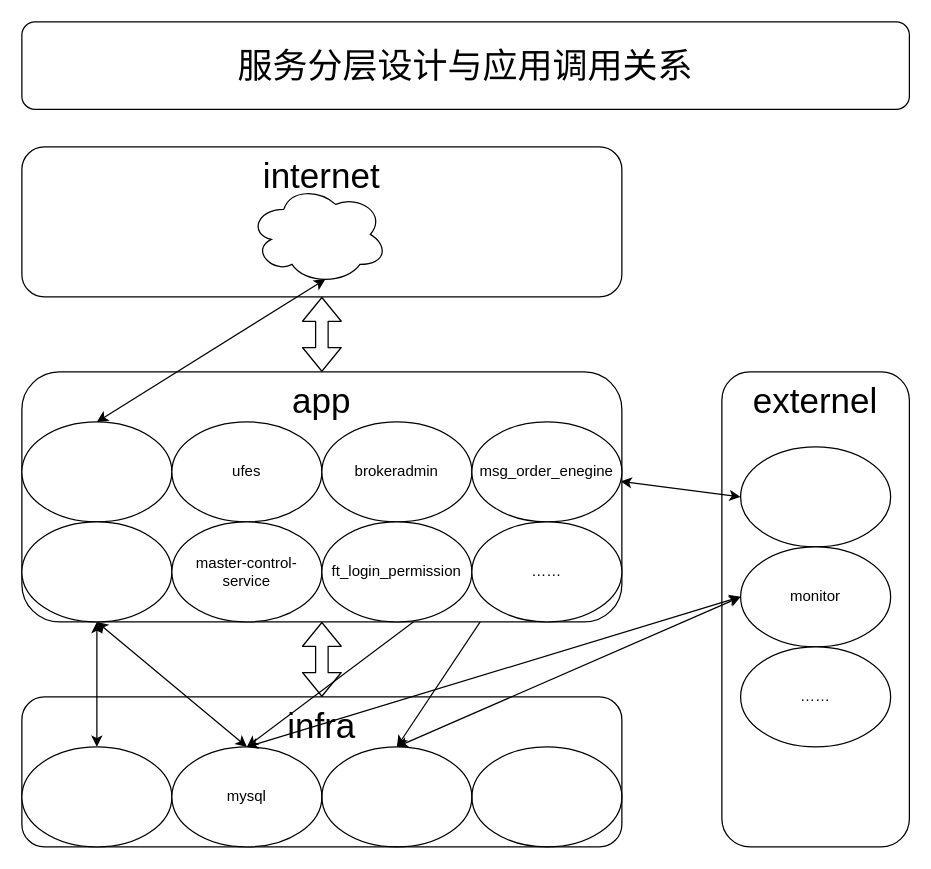
The diagram is 931 pixels wide and 869 high, and some of its shapes have lost their labels. The shapes that lost their labels are listed below. From the top down, each one's centre as x and y in pixels, then its label:
point 318,233: model
point 96,471: shunt
point 815,496: counter
point 96,571: ft4r
point 96,796: aeron_media_driver
point 396,796: redis
point 546,796: nginx
